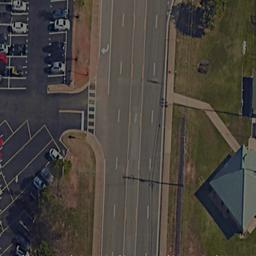Car: (46, 5, 70, 74), (13, 205, 39, 256), (32, 168, 58, 195), (1, 32, 8, 79), (48, 146, 63, 162), (12, 1, 30, 13), (9, 23, 30, 33), (11, 45, 27, 56), (13, 65, 25, 76)
Crosswalk: (88, 79, 95, 136)
Double Solid Yellow Line: (56, 108, 83, 112)
Right Turn Arrow: (100, 43, 110, 55)
Stop Line: (79, 110, 85, 132)
White Dashed Line: (142, 12, 160, 254), (110, 11, 126, 255)
